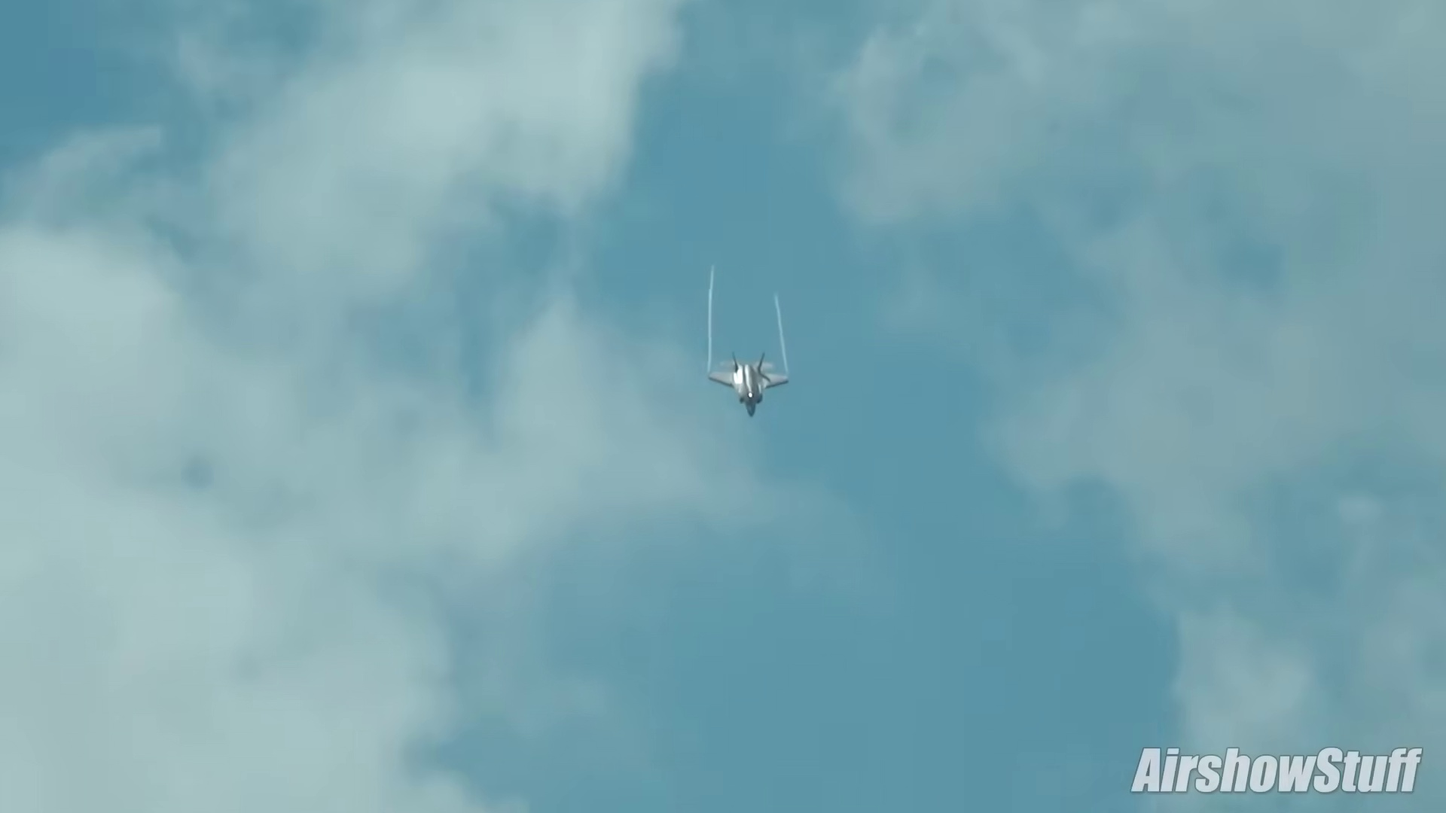F35: (699, 341, 797, 421)
